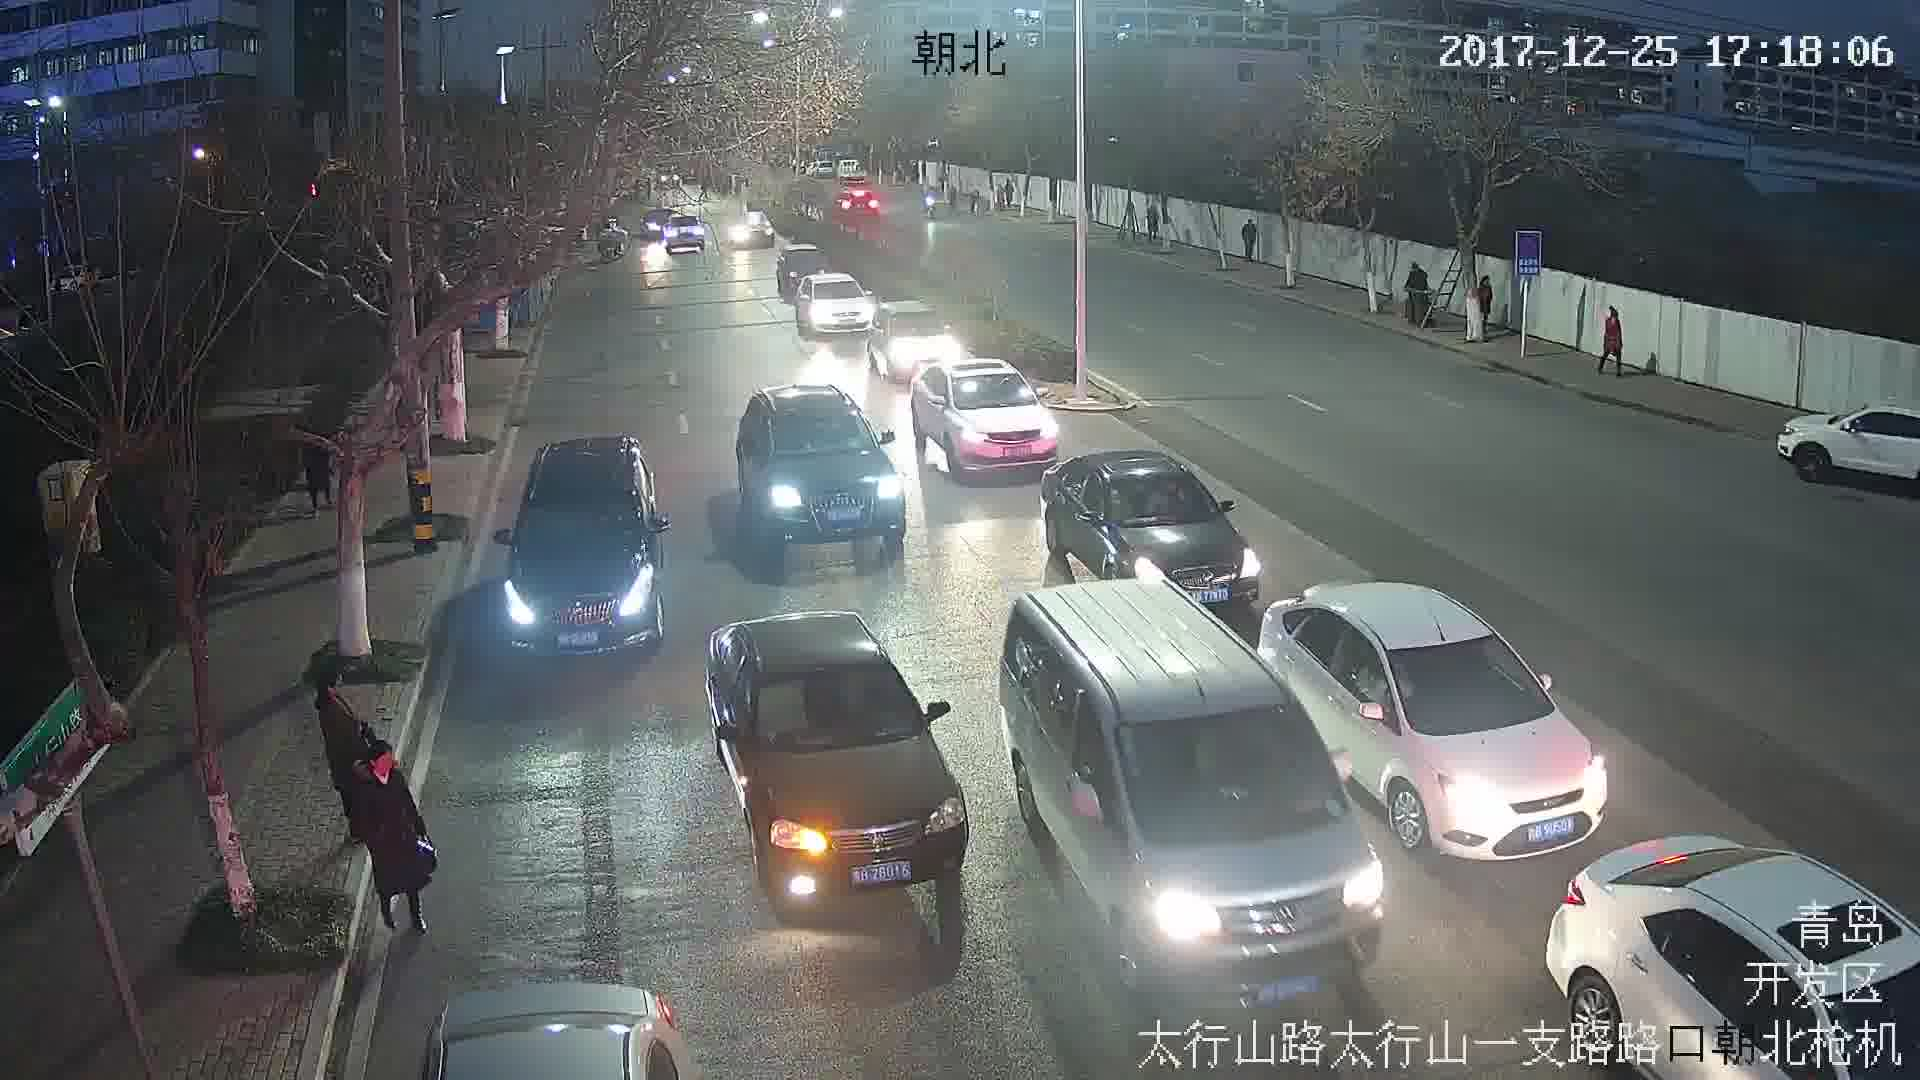car: (999, 587, 1368, 1014), (1259, 575, 1609, 862), (702, 617, 974, 902), (507, 437, 670, 657), (1042, 450, 1263, 609), (735, 381, 903, 553), (912, 357, 1060, 474)
person: (357, 748, 434, 935), (313, 667, 377, 839), (1600, 302, 1628, 374), (1237, 220, 1259, 266)
